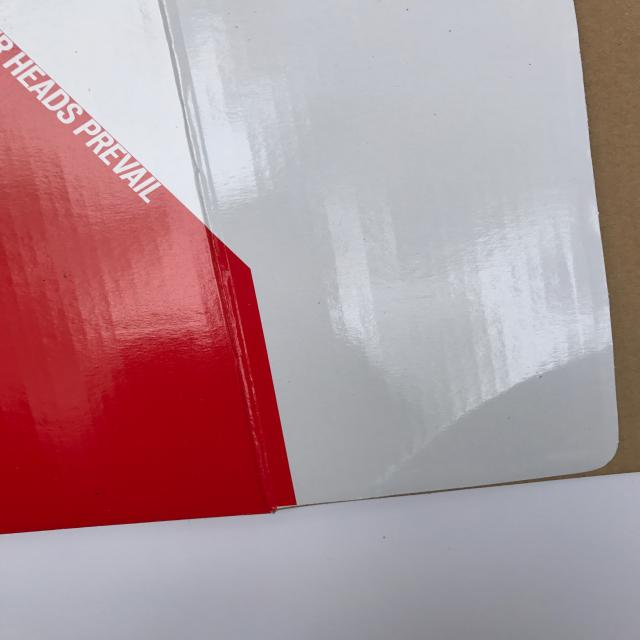cardboard: (0, 0, 631, 535)
